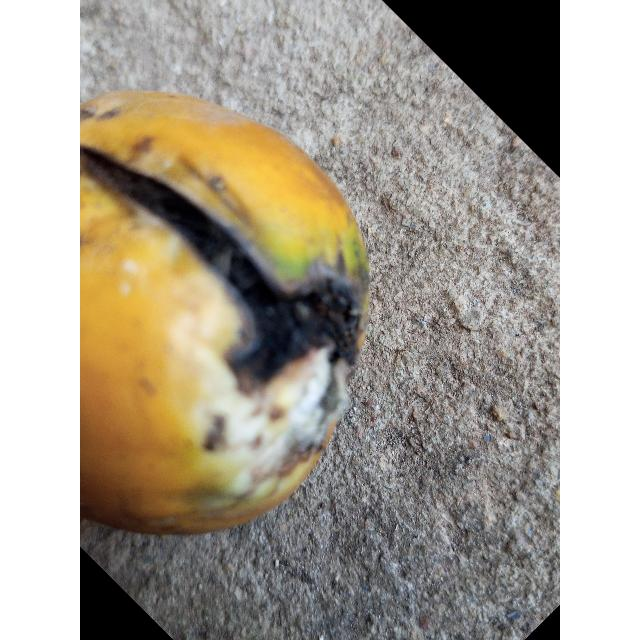damaged: (80, 91, 369, 533)
